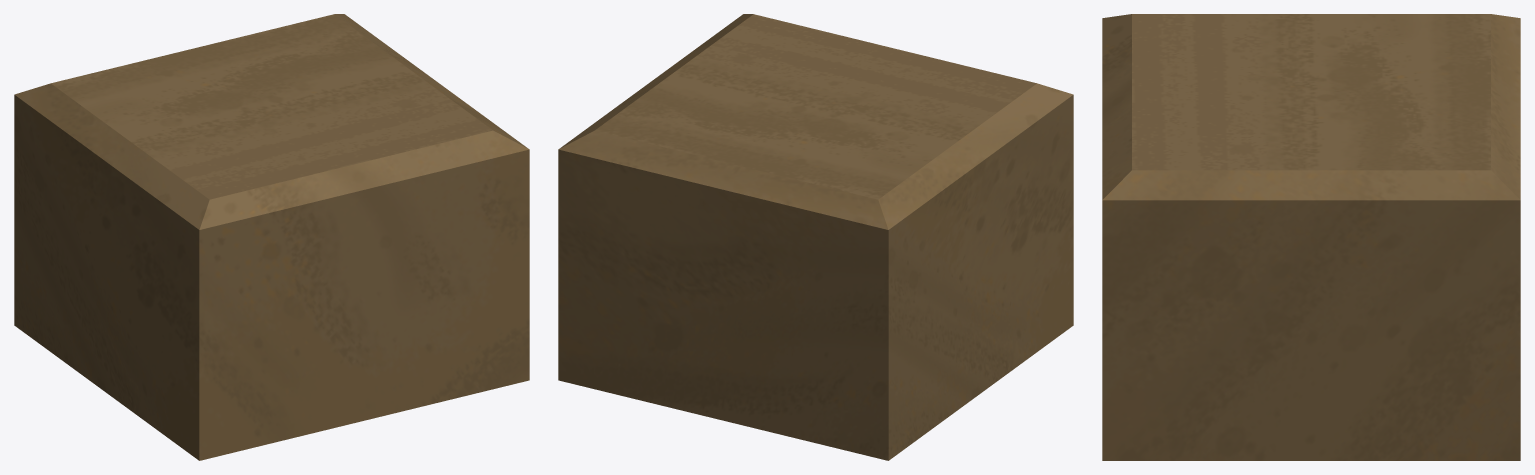
The model's file is SM_museumStand.fbx.
The picture shows the model from 3 angles, left to right: view 1: azimuth 30°, elevation 25°; view 2: azimuth 150°, elevation 25°; view 3: azimuth 270°, elevation 25°; orthographic projection. The views are drawn at different scales.
Visible parts, largest first — view 1: stand; view 2: stand; view 3: stand.
Part boxes in pixels (bbox=[...]): stand: bbox=[14, 14, 529, 460]; stand: bbox=[558, 14, 1073, 460]; stand: bbox=[1102, 14, 1520, 460].
Bounding box in the file's own units: 7.99 × 5.69 × 7.76.
Materials: 1 (1 with a texture image).
